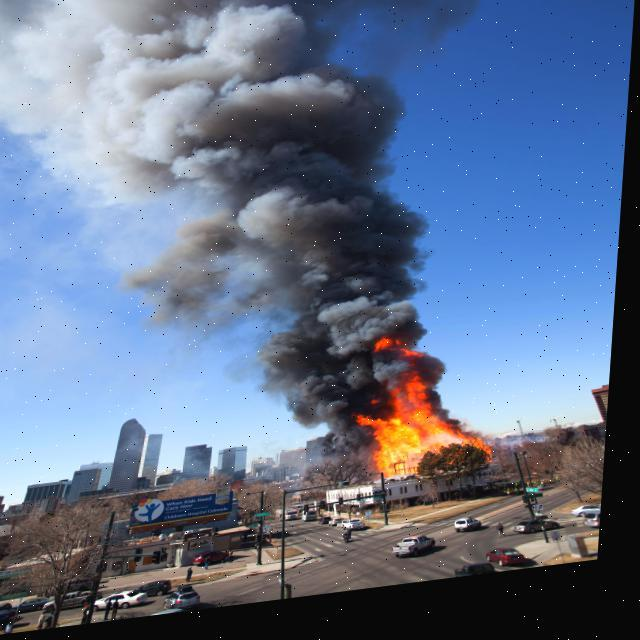Fire: (337, 333, 508, 498)
